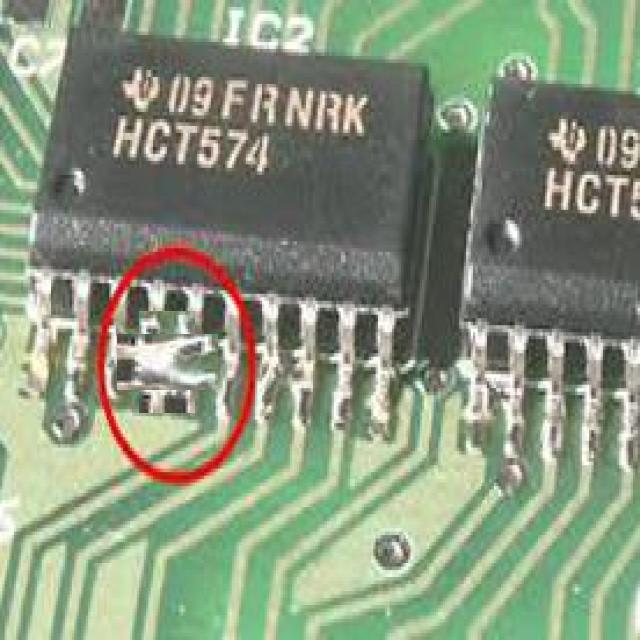Short_circuit: (128, 323, 206, 401)
